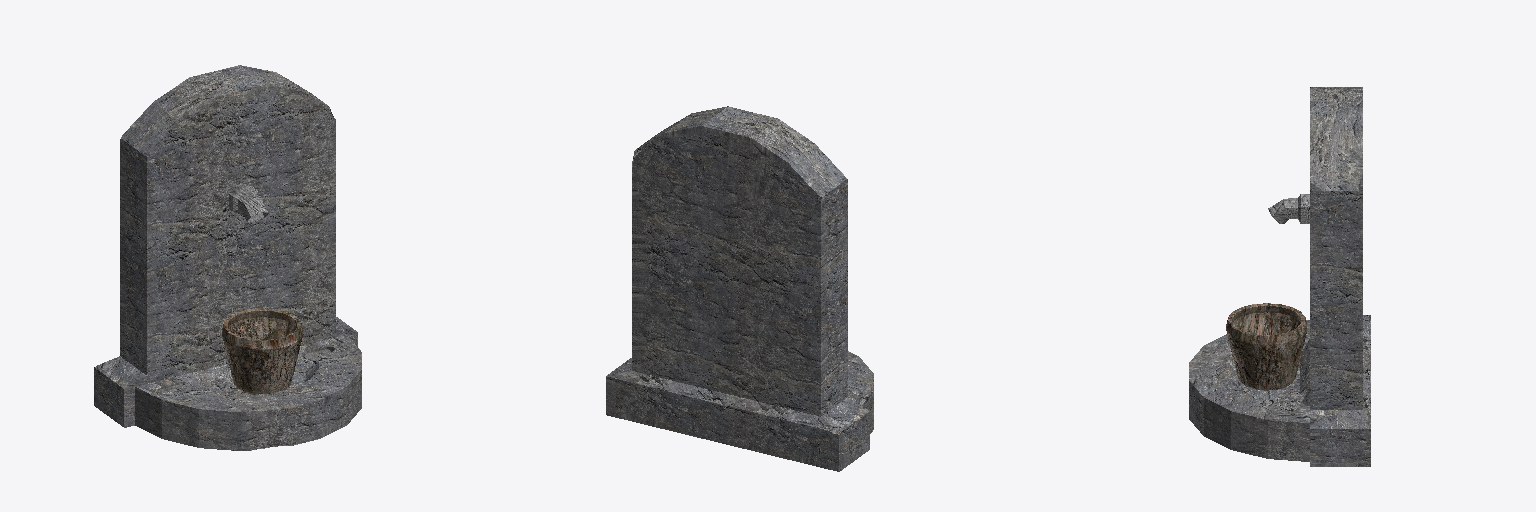
The picture shows the model from 3 angles: view 1: azimuth 30°, elevation 25°; view 2: azimuth 150°, elevation 25°; view 3: azimuth 270°, elevation 25°; orthographic projection.
Visible parts, largest first — view 1: polySurface13 polySurface10, set1 polySurface10 polySurface14, polySurface10 polySurface15; view 2: polySurface13 polySurface10; view 3: polySurface13 polySurface10, set1 polySurface10 polySurface14, polySurface10 polySurface15.
Part boxes in pixels (bbox=[...]): polySurface13 polySurface10: bbox=[94, 65, 361, 450]; set1 polySurface10 polySurface14: bbox=[222, 308, 302, 394]; polySurface10 polySurface15: bbox=[229, 183, 268, 221]; polySurface13 polySurface10: bbox=[606, 106, 873, 471]; polySurface13 polySurface10: bbox=[1189, 87, 1370, 466]; set1 polySurface10 polySurface14: bbox=[1226, 303, 1306, 390]; polySurface10 polySurface15: bbox=[1268, 194, 1309, 223].
Bounding box in the file's own units: 12.05 × 15.22 × 8.12.
1 materials, 1 textured.